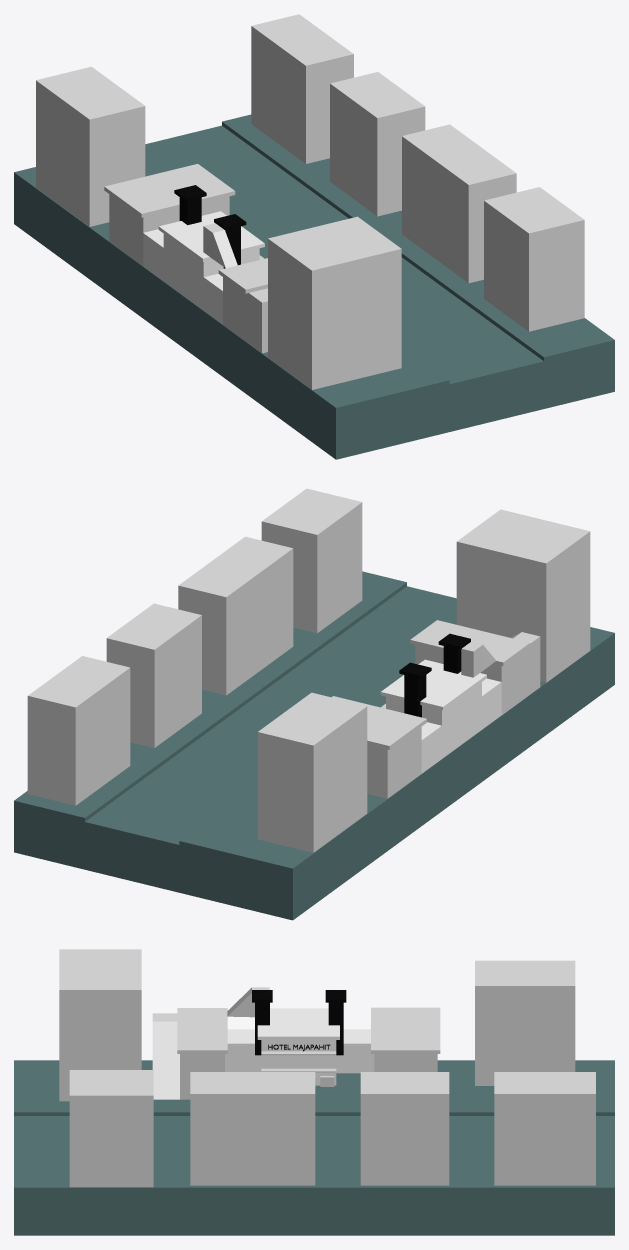
Rendered from hotelMajapahitBaru.fbx.
3 renders of one model, top to bottom at view 1: azimuth 30°, elevation 25°; view 2: azimuth 150°, elevation 25°; view 3: azimuth 270°, elevation 25°, orthographic. The views are drawn at different scales.
Visible parts, largest first — view 1: Cube.009, Cube.012, Cube.010, Cube.015, Cube.014, Cube.011, Cube.013, Cube, Cube.002, Cube.003, Cube.016, Cube.017 (+2 smaller); view 2: Cube.009, Cube.012, Cube.010, Cube.011, Cube.014, Cube.015, Cube.013, Cube.002, Cube, Cube.003, Cube.001, Cube.016 (+2 smaller); view 3: Cube.009, Cube.014, Cube.011, Cube.010, Cube.012, Cube.013, Cube.015, Cube.002, Cube, Cube.003, Cube.016, Cube.001 (+2 smaller).
Boxes of the visible parts, x1=… form: Cube.009: x1=14, y1=114, x2=614, y2=459; Cube.012: x1=268, y1=216, x2=401, y2=389; Cube.010: x1=36, y1=66, x2=145, y2=226; Cube.015: x1=484, y1=187, x2=584, y2=331; Cube.014: x1=402, y1=124, x2=516, y2=283; Cube.011: x1=251, y1=14, x2=353, y2=163; Cube.013: x1=330, y1=72, x2=425, y2=216; Cube: x1=104, y1=164, x2=235, y2=265; Cube.002: x1=143, y1=211, x2=264, y2=324; Cube.003: x1=218, y1=258, x2=267, y2=342; Cube.016: x1=247, y1=288, x2=267, y2=353; Cube.017: x1=203, y1=223, x2=237, y2=268; Cube.009: x1=14, y1=571, x2=614, y2=920; Cube.012: x1=456, y1=509, x2=590, y2=682; Cube.010: x1=257, y1=692, x2=367, y2=852; Cube.011: x1=27, y1=656, x2=130, y2=805; Cube.014: x1=178, y1=536, x2=293, y2=695; Cube.015: x1=261, y1=488, x2=362, y2=633; Cube.013: x1=106, y1=603, x2=201, y2=747; Cube.002: x1=380, y1=659, x2=501, y2=773; Cube: x1=332, y1=696, x2=426, y2=798; Cube.003: x1=410, y1=620, x2=530, y2=714; Cube.001: x1=399, y1=662, x2=431, y2=717; Cube.016: x1=510, y1=632, x2=540, y2=697; Cube.009: x1=14, y1=1060, x2=614, y2=1235; Cube.014: x1=190, y1=1072, x2=315, y2=1185; Cube.011: x1=494, y1=1072, x2=595, y2=1185; Cube.010: x1=475, y1=960, x2=575, y2=1085; Cube.012: x1=59, y1=949, x2=141, y2=1101; Cube.013: x1=360, y1=1072, x2=449, y2=1185; Cube.015: x1=69, y1=1070, x2=153, y2=1187; Cube.002: x1=225, y1=1008, x2=374, y2=1085; Cube: x1=371, y1=1007, x2=440, y2=1071; Cube.003: x1=177, y1=1008, x2=227, y2=1099; Cube.016: x1=152, y1=1013, x2=179, y2=1099; Cube.001: x1=325, y1=990, x2=346, y2=1055.
Bounding box in the file's own units: 40451 × 23462 × 80000.
